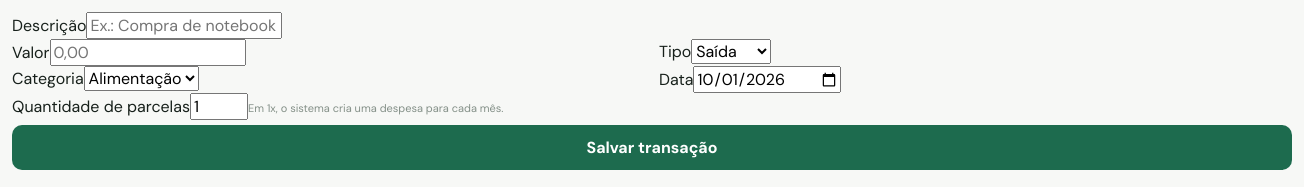
Test: TransactionForm — nova transação › ajusta os rótulos e o botão quando há mais de uma parcela
Replace the text in the number field labelled "Quantidade de parcelas" with "3". click: (219, 106)
box: top-left (190, 93), bottom-right (248, 120)
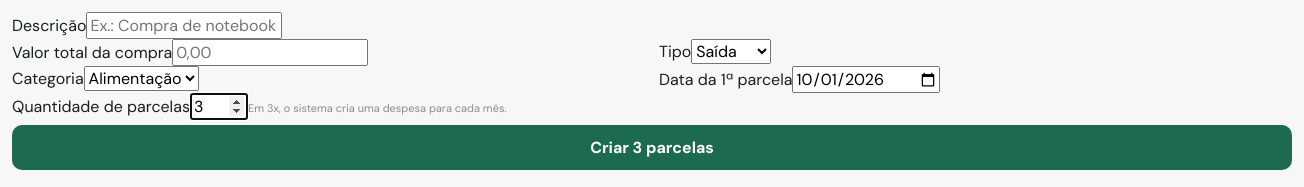
Expected: the number field labelled "Valor total da compra" is shown, top-left (172, 39), bottom-right (368, 66)
Result: the button "Criar 3 parcelas" is shown at top-left (12, 125), bottom-right (1292, 170)
